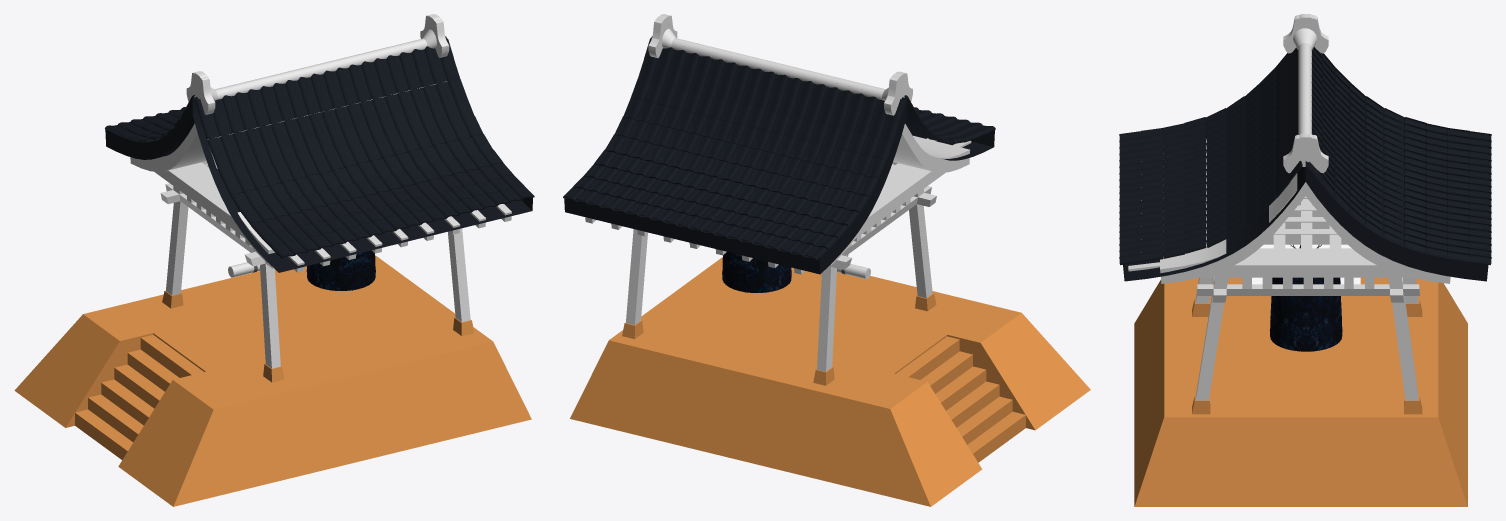
The model's file is kane.fbx.
The picture shows the model from 3 angles, left to right: view 1: azimuth 30°, elevation 25°; view 2: azimuth 150°, elevation 25°; view 3: azimuth 270°, elevation 25°; orthographic projection. The views are drawn at different scales.
Parts seen in each view (by area): view 1: 立方体, Cylinder.002, 台, 円; view 2: 立方体, Cylinder.002, 台, 円; view 3: Cylinder.002, 立方体, 円.
Boxes of the visible parts, x1,y1,x2,y2 form: 立方体: (14, 255, 531, 506); Cylinder.002: (105, 14, 534, 382); 台: (75, 335, 203, 459); 円: (306, 250, 375, 290); 立方体: (570, 257, 1090, 506); Cylinder.002: (563, 14, 995, 385); 台: (896, 336, 1025, 462); 円: (722, 252, 791, 292); Cylinder.002: (1119, 14, 1491, 414); 立方体: (1134, 277, 1467, 506); 円: (1269, 277, 1342, 351).
Bounding box in the file's own units: 466 × 430 × 399.
Materials: 7 (1 with a texture image).
